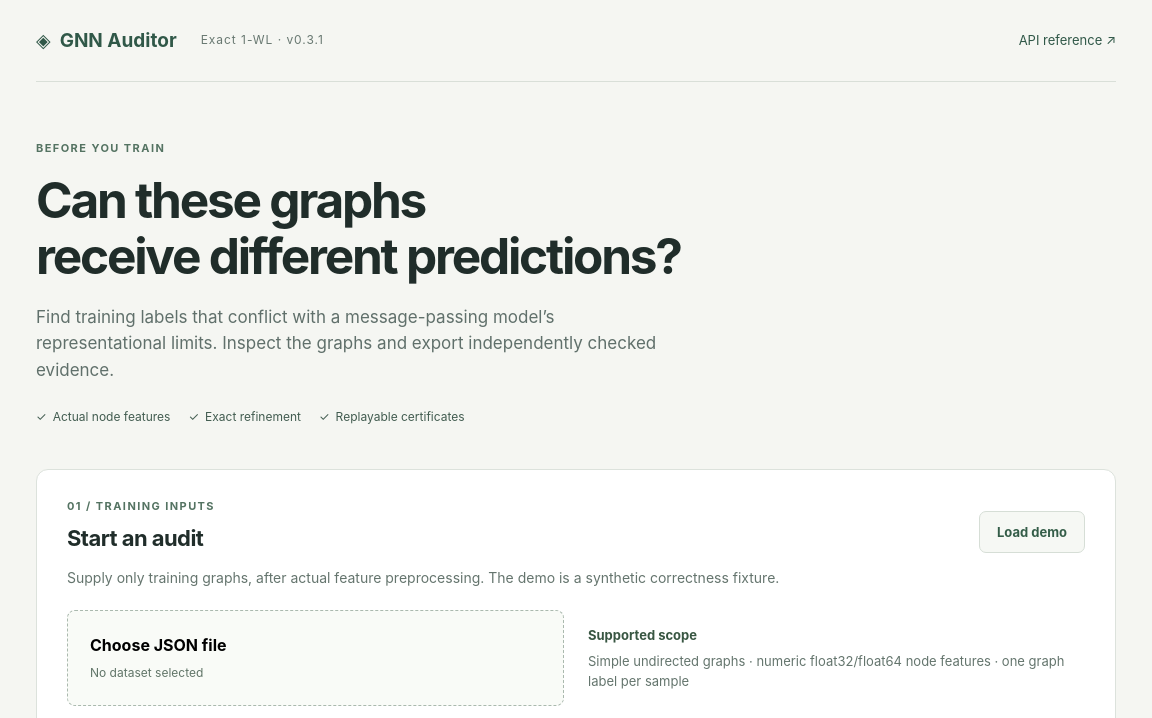
Test: explicit compact mode submits original text and mode changes clear completed results
The width and height of the screenshot is (1152, 718).
Click the button "Load demo". click: [1032, 532]
box: [979,511,1085,553]
(page scrolled)
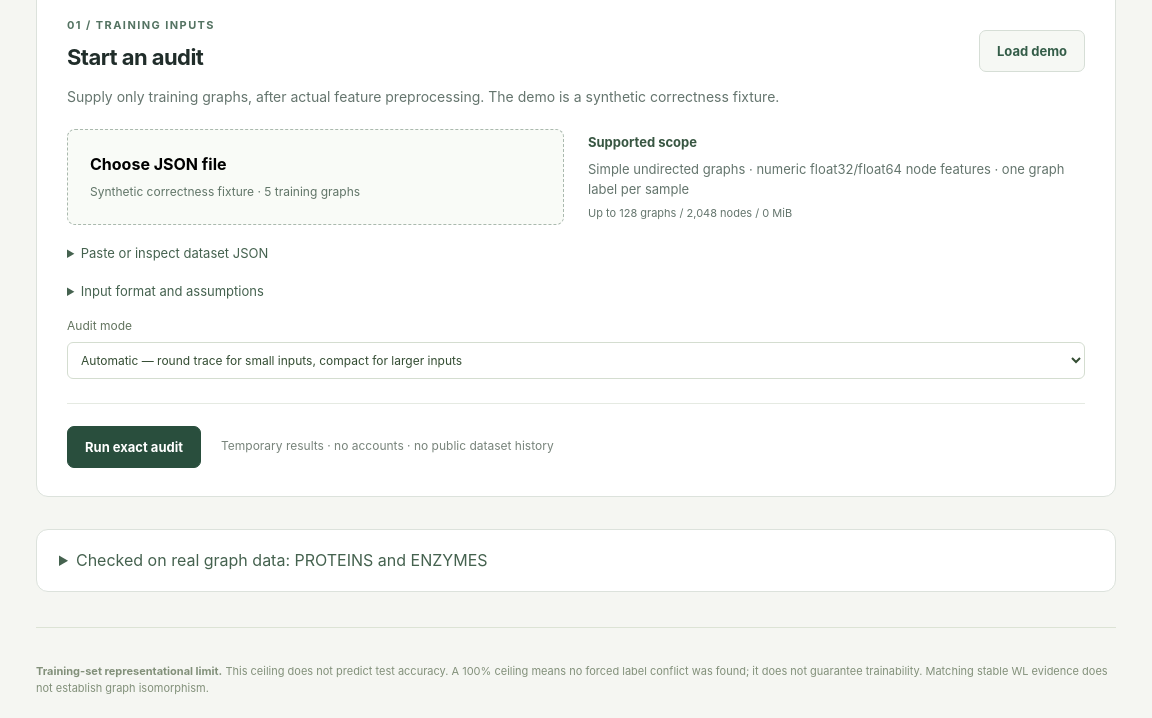
Check: the button "Run exact audit" is enabled, box [67,426,201,468]
Select "Compact certificate — larger or long-refining graphs" in the dropdown labelled "Audit mode". click: [576, 360]
box: [67,342,1085,379]
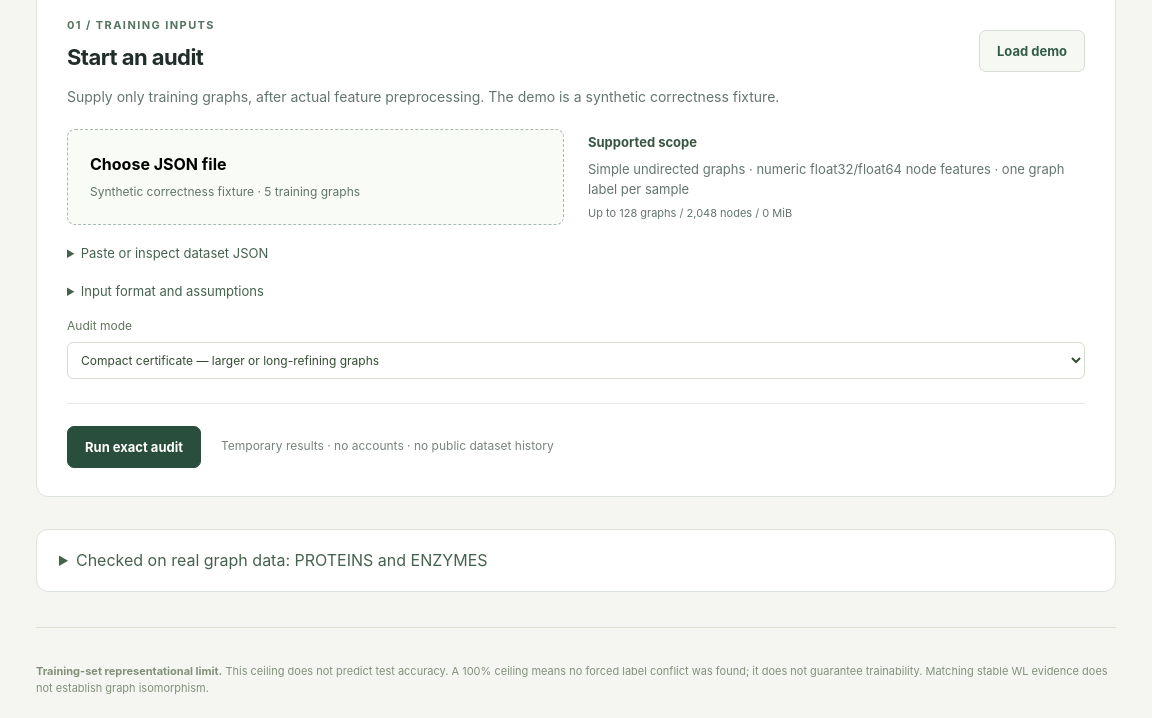
Click the button "Run exact audit". click: [134, 447]
box: [67,426,201,468]
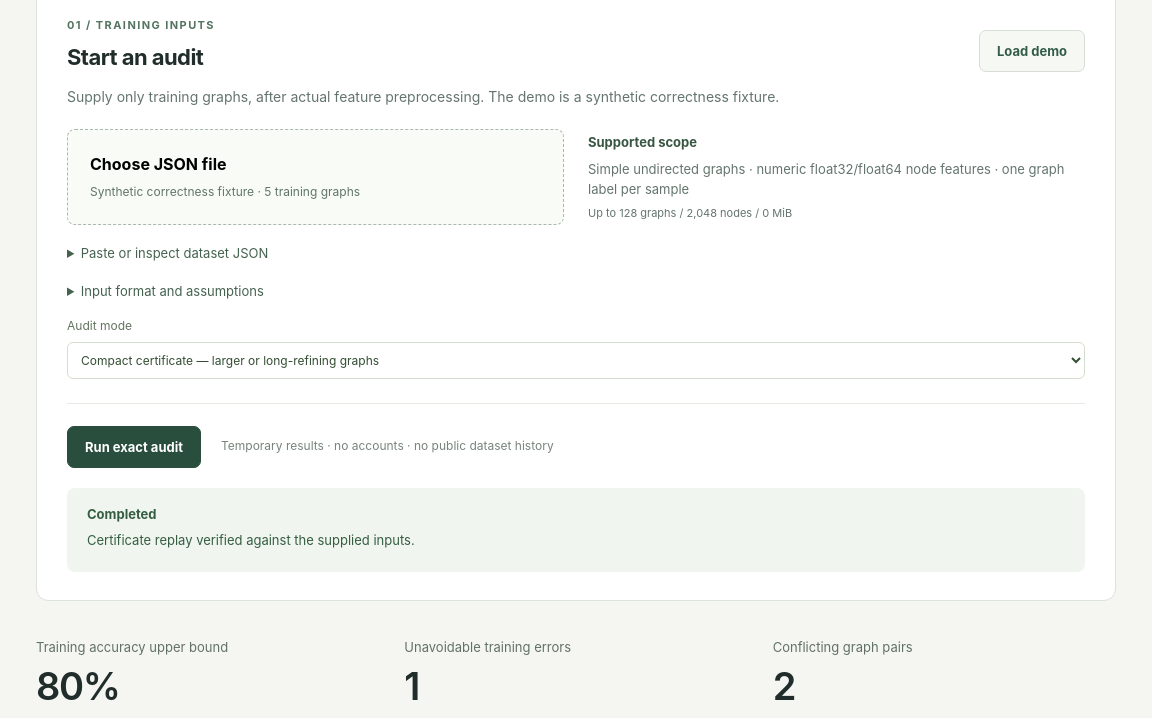
Check: the text "80%" is shown, box [36,663,120,709]
Select "Full round trace — teaching and step inspection" in the dropdown labelled "Audit mode". click: [576, 360]
box: [67,342,1085,379]
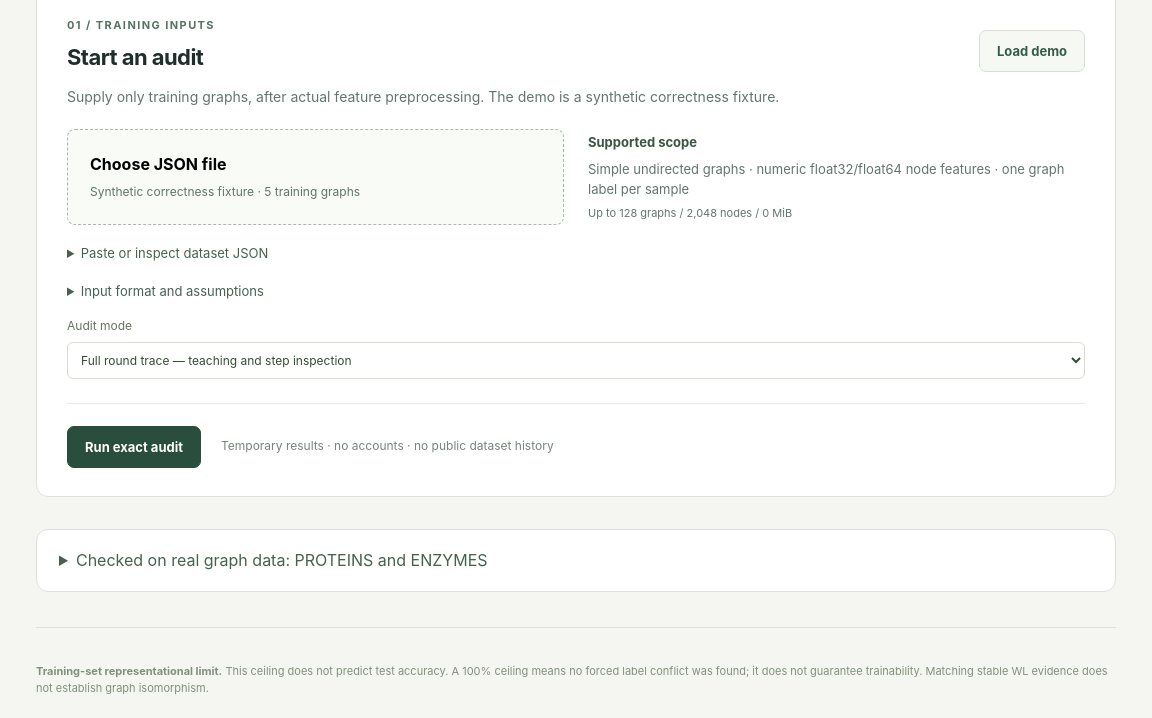
Check: the text "80%" is gone
